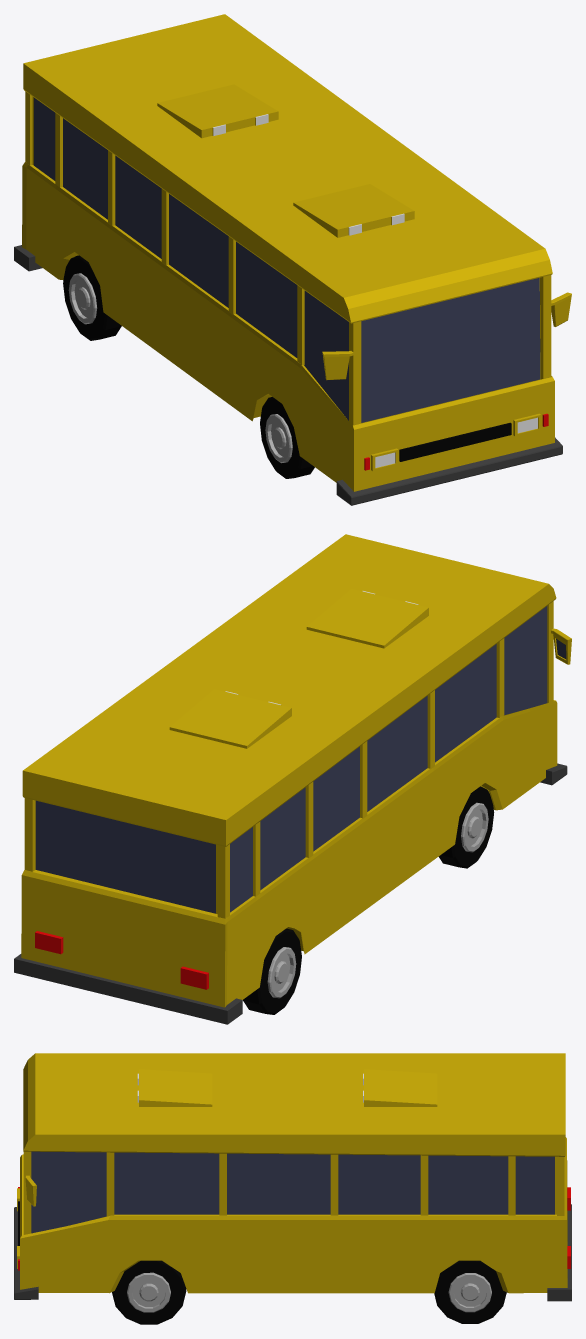
The model's file is GP1_Asset_Bus_1.fbx.
The picture shows the model from 3 angles, top to bottom: view 1: azimuth 30°, elevation 25°; view 2: azimuth 150°, elevation 25°; view 3: azimuth 270°, elevation 25°; orthographic projection. The views are drawn at different scales.
Visible parts, largest first — view 1: Bus, Bus Tires.002, Bus Tires.001; view 2: Bus, Bus Tires.002, Bus Tires.001; view 3: Bus, Bus Tires.002, Bus Tires.001.
Boxes of the visible parts, <box> form: Bus: <box>14,14,571,505</box>; Bus Tires.002: <box>63,255,314,478</box>; Bus Tires.001: <box>68,273,292,463</box>; Bus: <box>14,534,571,1024</box>; Bus Tires.002: <box>243,786,494,1014</box>; Bus Tires.001: <box>267,802,488,998</box>; Bus: <box>14,1053,571,1301</box>; Bus Tires.002: <box>112,1260,506,1324</box>; Bus Tires.001: <box>127,1272,491,1312</box>.
Bounding box in the file's own units: 646 × 601 × 1520.
